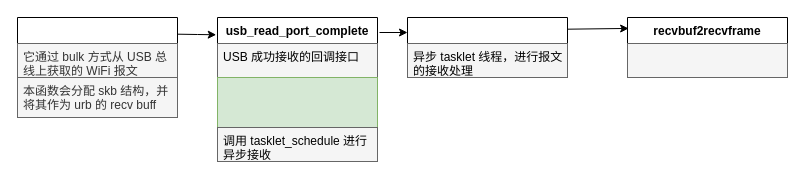
The diagram is 805 pixels wide and 182 high, and some of its shapes have lost their labels. The shapes that lost their labels are listed below. From the top down, each one's box as (x1, y1, x2, y2) in pixels, then its label:
(16, 16, 178, 118): usb_read_port
(406, 16, 568, 78): usb_recv_tasklet
(626, 42, 788, 78): 整个报文的接收
(216, 76, 378, 128): 成功接收到的报文会被挂载 precvpriv->rx_skb_queue 队列上
